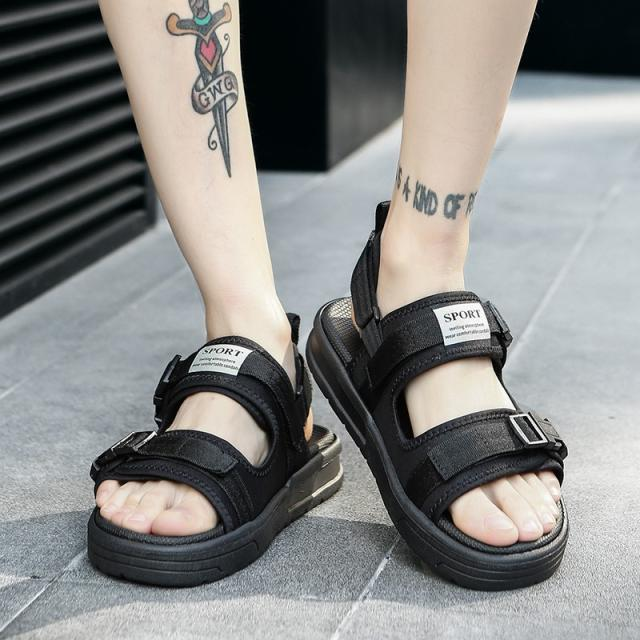Sandals: (0, 171, 530, 640)
